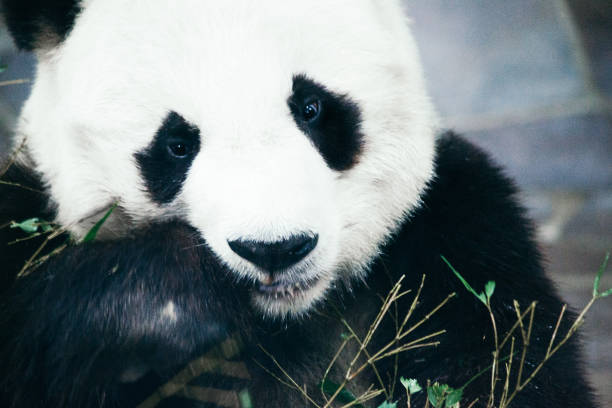panda: (3, 2, 543, 345)
